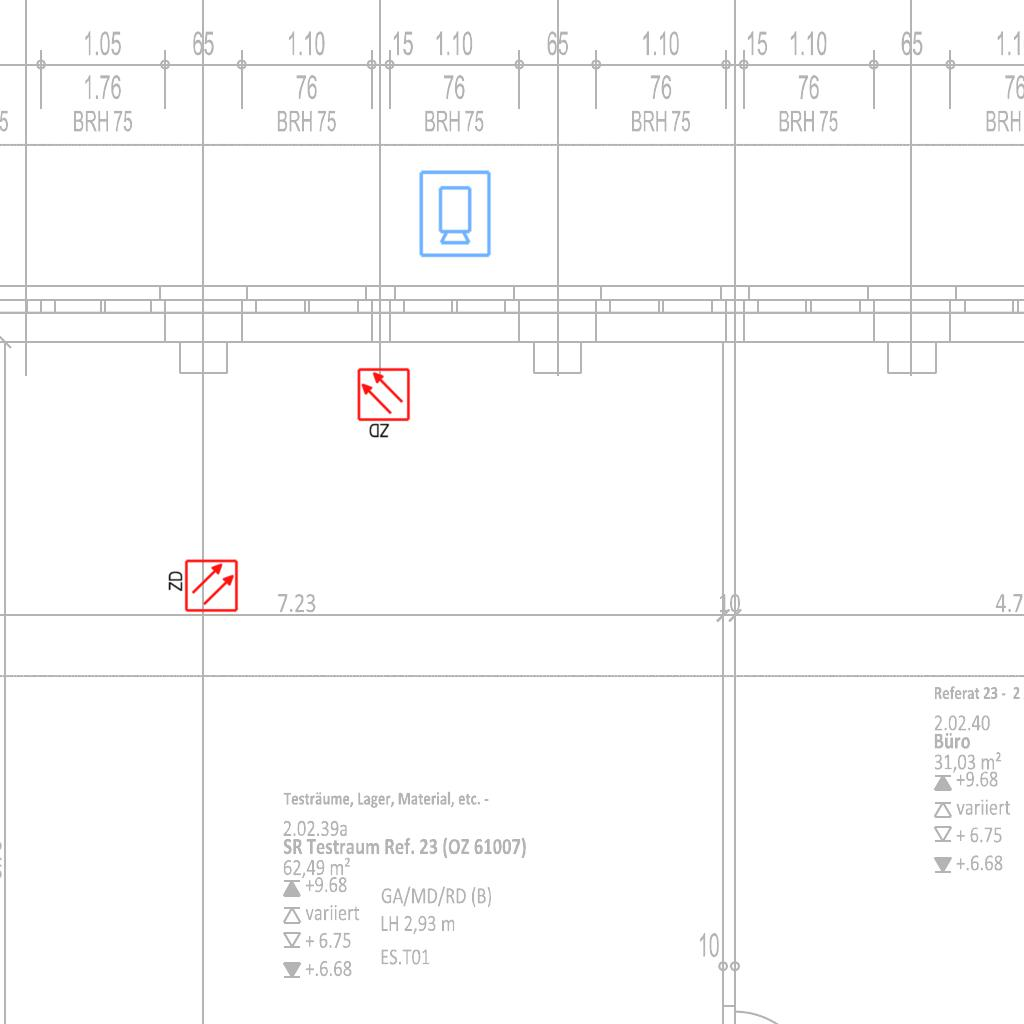KFO_Kamera_mit_Festobjektiv: (416, 168, 493, 259)
ZD_Melder_in_Zwischendecke_mit_Revisionsoeffnung_mind_40_x_40_cm: (165, 558, 239, 615), (356, 367, 413, 441)
